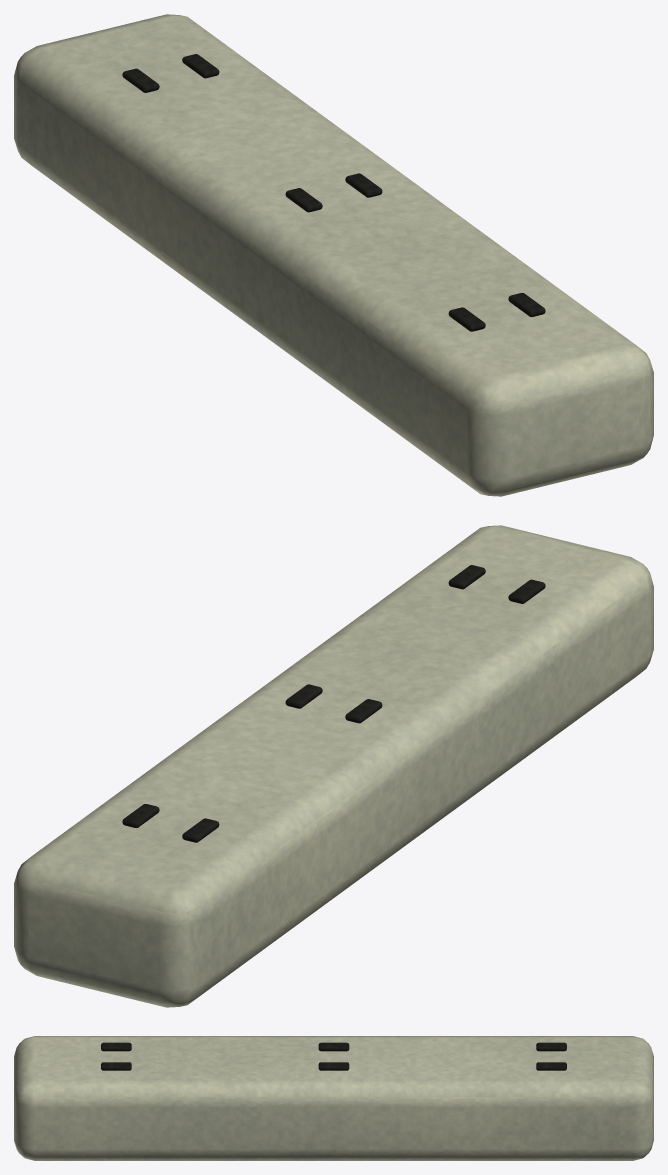
Rendered from PowerStrip.fbx.
3 renders of one model, top to bottom at view 1: azimuth 30°, elevation 25°; view 2: azimuth 150°, elevation 25°; view 3: azimuth 270°, elevation 25°, orthographic. The views are drawn at different scales.
Visible parts, largest first — view 1: PowerStrip_Enamel, PowerStrip_Iron; view 2: PowerStrip_Enamel, PowerStrip_Iron; view 3: PowerStrip_Enamel, PowerStrip_Iron.
Part boxes in pixels (bbox=[...]): PowerStrip_Enamel: bbox=[14, 14, 653, 496]; PowerStrip_Iron: bbox=[122, 54, 545, 331]; PowerStrip_Enamel: bbox=[14, 525, 653, 1007]; PowerStrip_Iron: bbox=[122, 565, 545, 842]; PowerStrip_Enamel: bbox=[14, 1036, 653, 1160]; PowerStrip_Iron: bbox=[101, 1042, 566, 1070].
Bounding box in the file's own units: 5.5 × 3.6 × 25.
